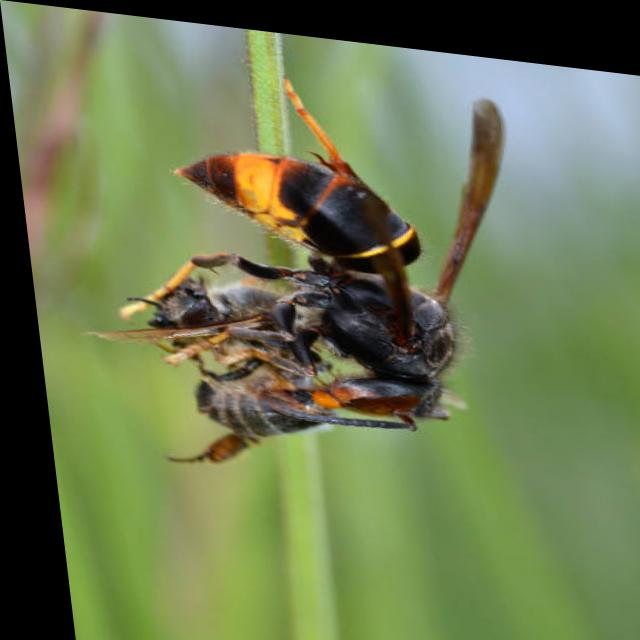Vespa Crabro: (49, 39, 550, 539)
